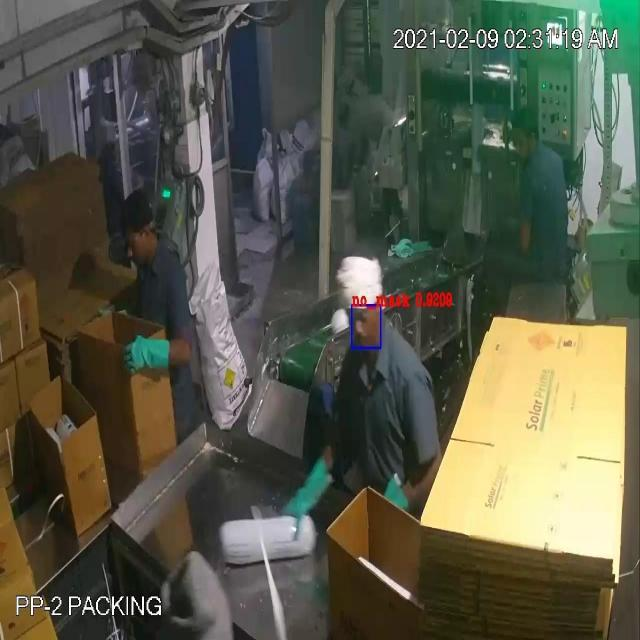Gloves: (61, 62, 306, 498)
